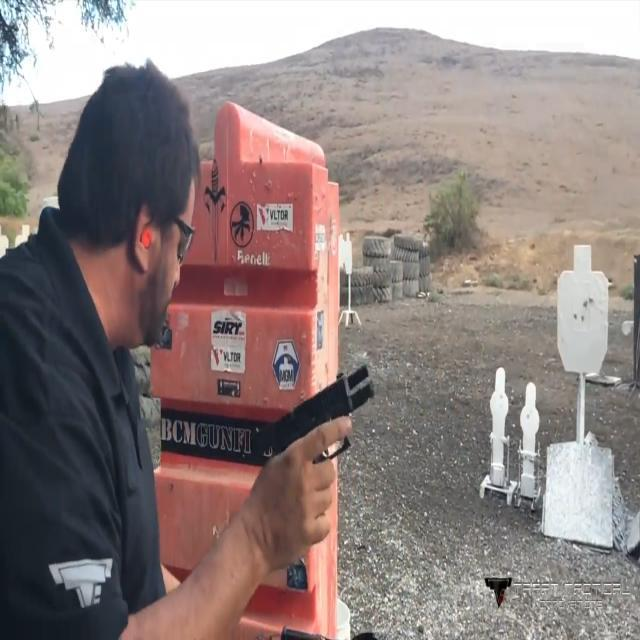Handgun: (251, 332, 386, 617)
